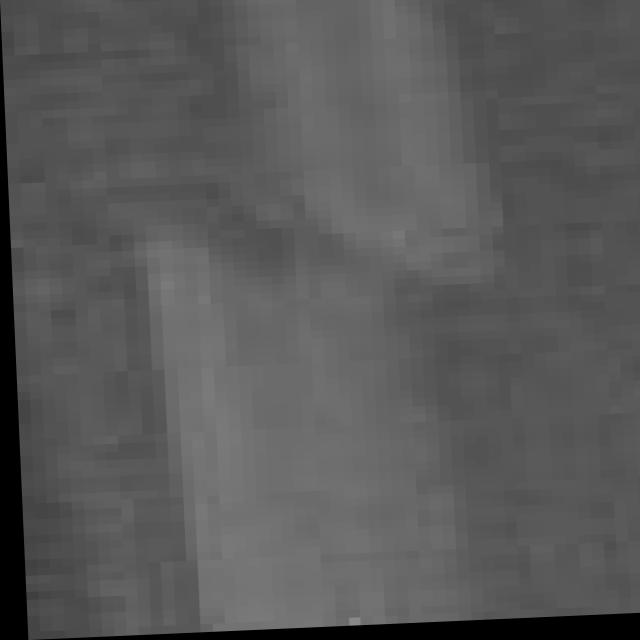fracture: (28, 0, 640, 626)
